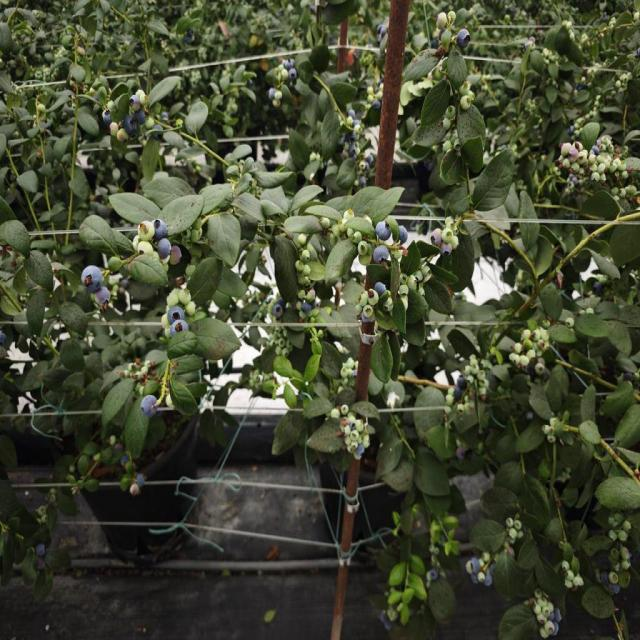RipeBlueBerry: (79, 265, 104, 291), (373, 242, 395, 268), (152, 220, 167, 238)
UnripeBlueBerry: (377, 218, 393, 238), (355, 236, 369, 258), (181, 288, 193, 302)
